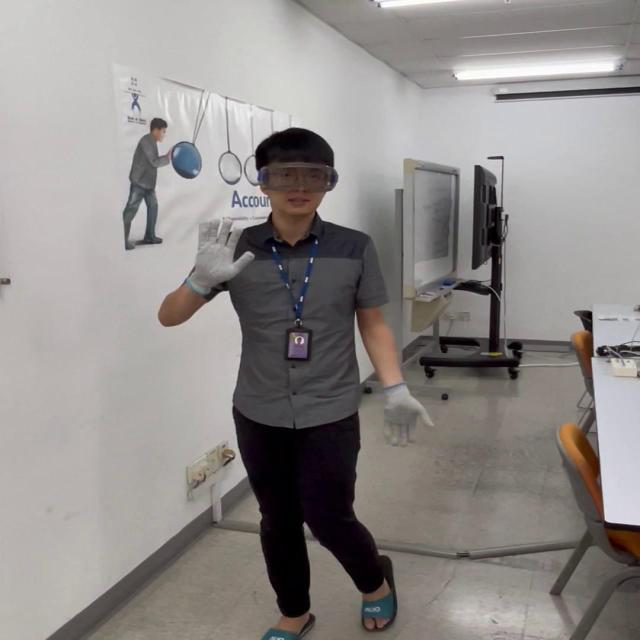bare_hand: (567, 310, 593, 376)
gloved_hand: (181, 218, 246, 280), (375, 382, 430, 444)
